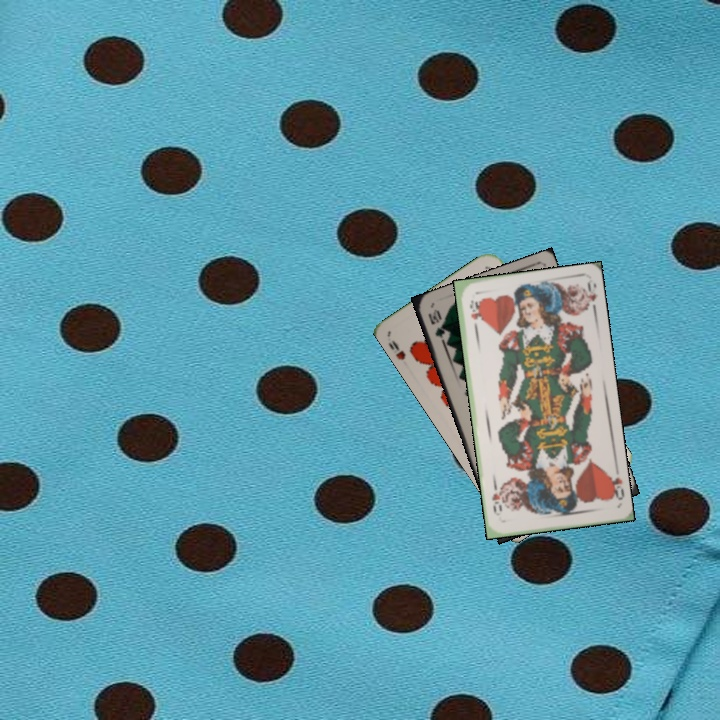G10: (424, 305, 451, 346)
H9: (384, 336, 408, 363)
HO: (603, 467, 627, 503), (466, 296, 481, 334)
